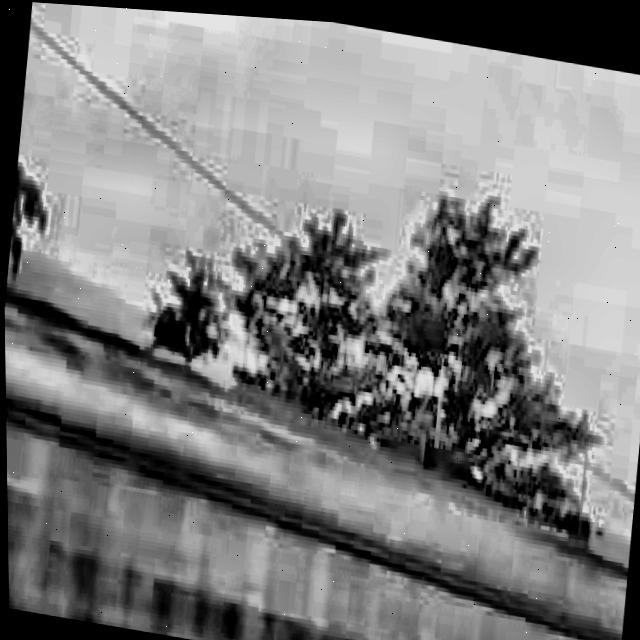Kereta: (2, 145, 640, 640)
